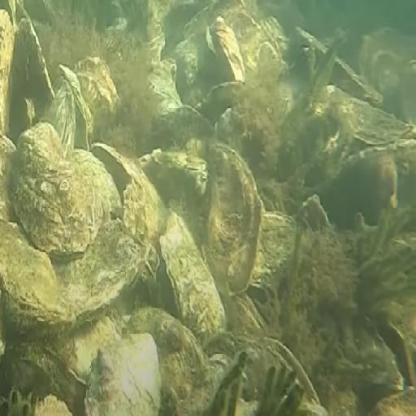Oyster-Closed: (0, 150, 141, 324), (12, 125, 104, 254), (199, 135, 262, 290), (161, 210, 229, 339), (127, 310, 208, 404), (87, 329, 162, 416), (324, 86, 410, 143), (74, 58, 118, 143), (46, 76, 76, 152)
Oyster-Open: (366, 310, 416, 401)
